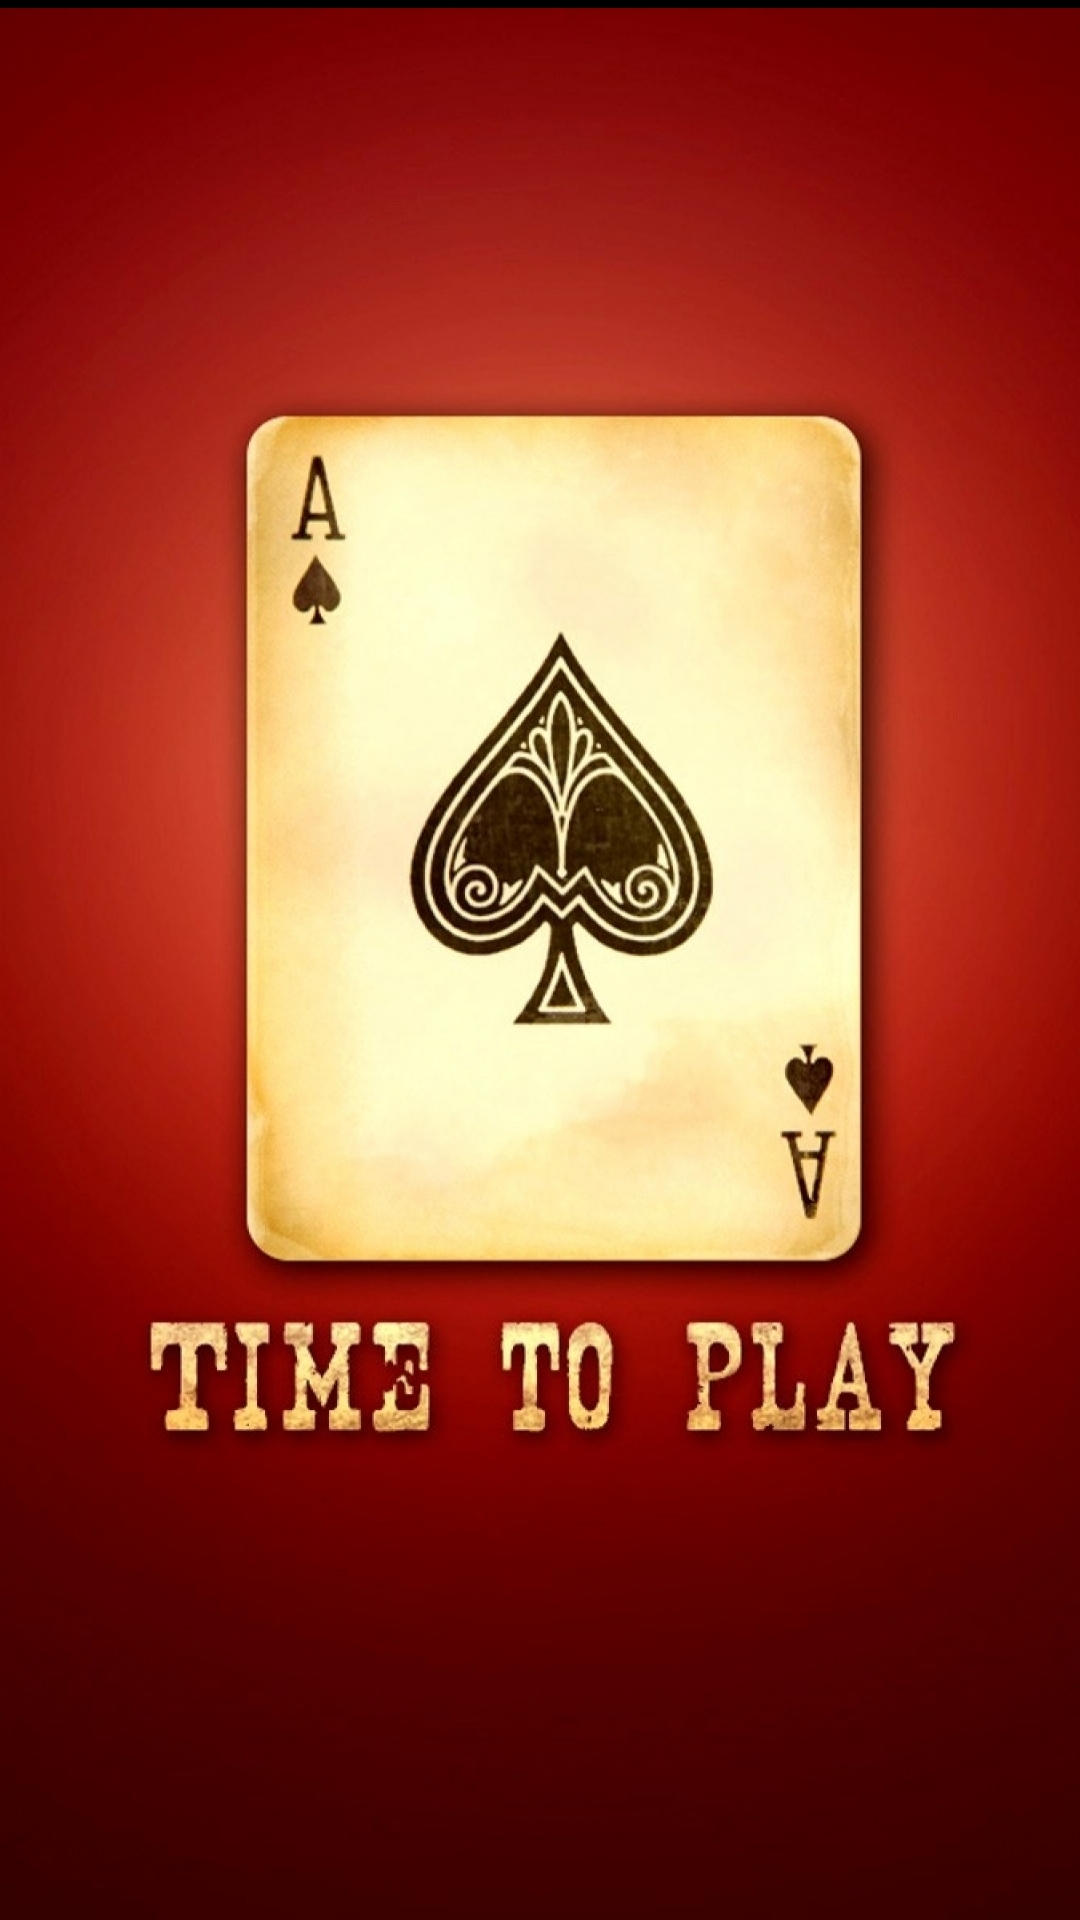ace of spades: (248, 412, 863, 1255)
